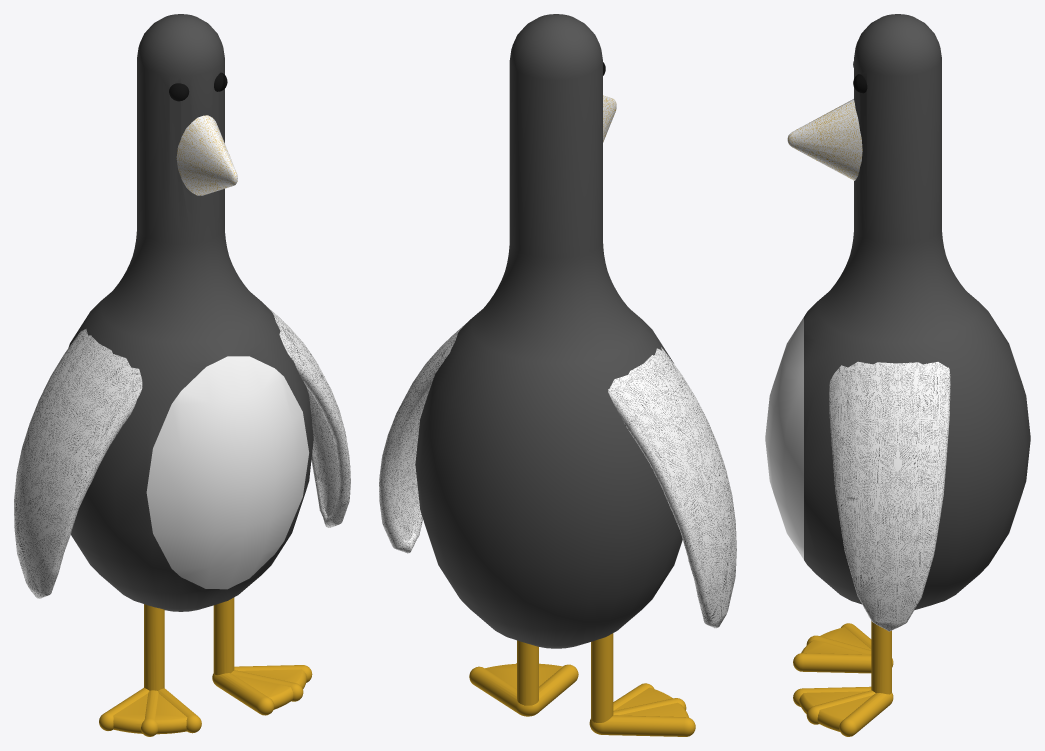
The picture shows the model from 3 angles, left to right: view 1: azimuth 30°, elevation 25°; view 2: azimuth 150°, elevation 25°; view 3: azimuth 270°, elevation 25°; orthographic projection. The views are drawn at different scales.
Visible parts, largest first — view 1: Feathers_McGraw (×5), foot (×2); view 2: Feathers_McGraw (×3), foot (×2); view 3: Feathers_McGraw (×4), foot (×2).
Boxes of the visible parts, x1=… form: Feathers_McGraw (×5): x1=14, y1=14, x2=350, y2=611; foot (×2): x1=99, y1=597, x2=312, y2=736; Feathers_McGraw (×3): x1=379, y1=14, x2=736, y2=648; foot (×2): x1=469, y1=633, x2=695, y2=736; Feathers_McGraw (×4): x1=765, y1=14, x2=1030, y2=631; foot (×2): x1=793, y1=621, x2=893, y2=736.
Size of the model in its own units: 12.97 by 9.57 by 26.67.
